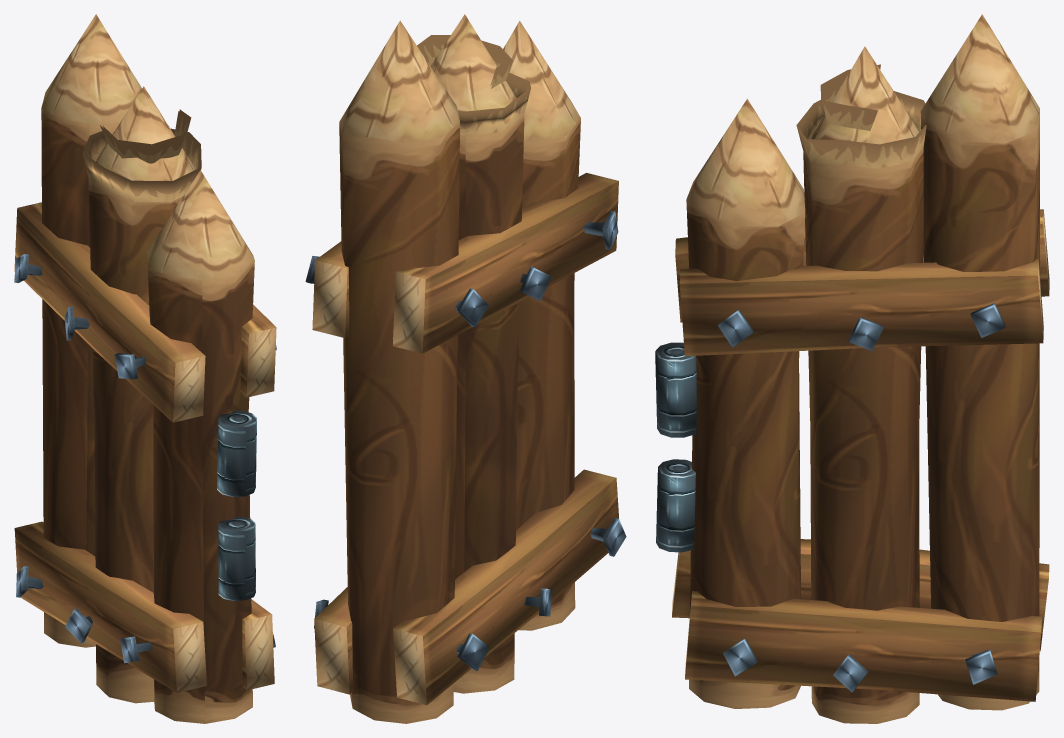
File: gates_left.fbx
The picture shows the model from 3 angles, left to right: view 1: azimuth 30°, elevation 25°; view 2: azimuth 150°, elevation 25°; view 3: azimuth 270°, elevation 25°; orthographic projection. The views are drawn at different scales.
Parts seen in each view (by area): view 1: gates_left; view 2: gates_left; view 3: gates_left.
Boxes of the visible parts, x1,y1,x2,y2 form: gates_left: [14, 14, 276, 723]; gates_left: [305, 14, 626, 723]; gates_left: [655, 14, 1049, 723].
Bounding box in the file's own units: 1.68 × 6.25 × 3.22.
